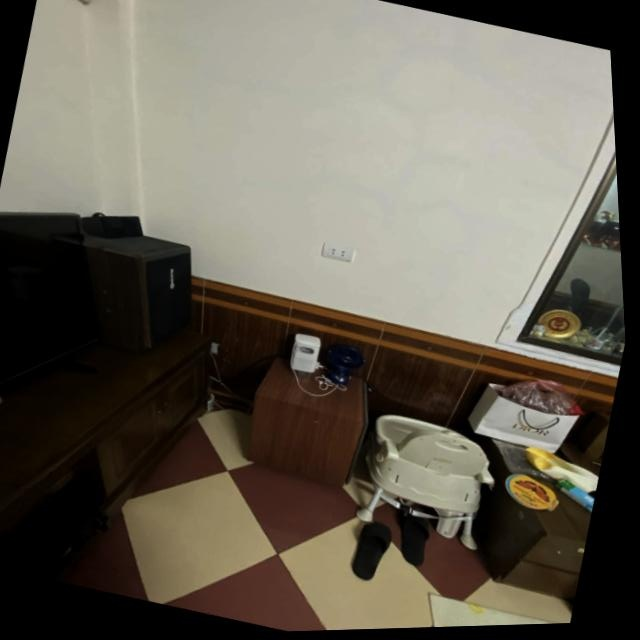outlet: (319, 242, 356, 266)
